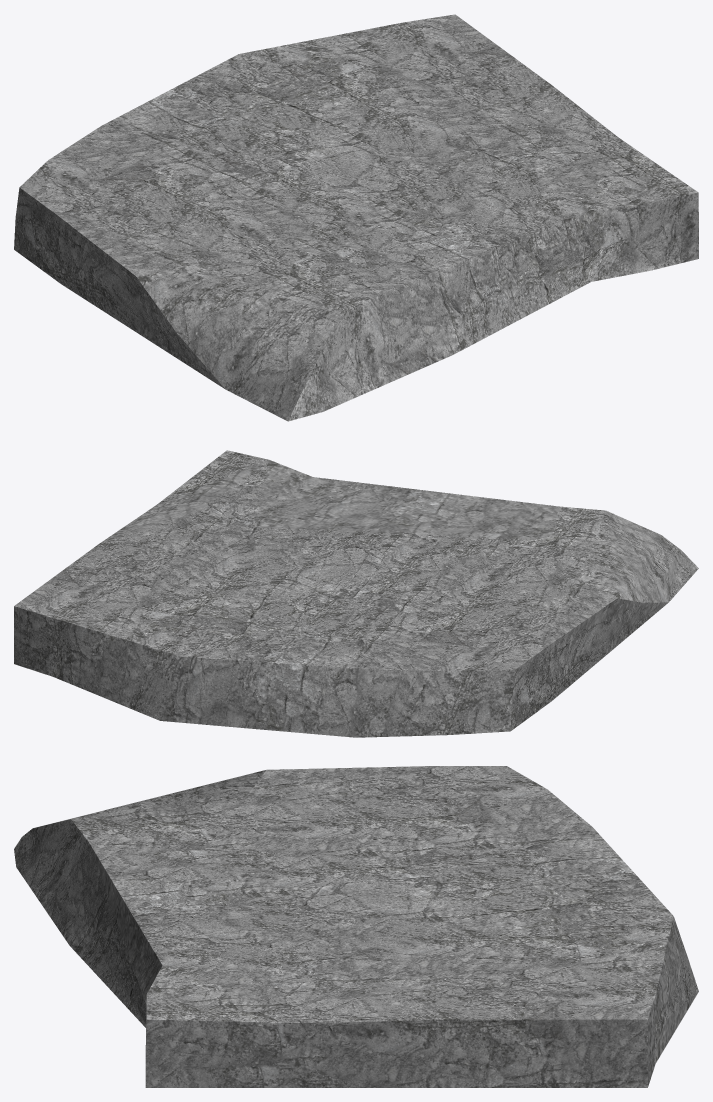
The model's file is materials_3_road_15.fbx.
The picture shows the model from 3 angles, top to bottom: view 1: azimuth 30°, elevation 25°; view 2: azimuth 150°, elevation 25°; view 3: azimuth 270°, elevation 25°; orthographic projection. The views are drawn at different scales.
Parts seen in each view (by area): view 1: materials_3_road_15; view 2: materials_3_road_15; view 3: materials_3_road_15.
Part boxes in pixels (box(x1,y1,x2,y2)): materials_3_road_15: box(14, 14, 698, 421); materials_3_road_15: box(14, 450, 698, 737); materials_3_road_15: box(14, 766, 698, 1087).
Bounding box in the file's own units: 234 × 29.74 × 267.
